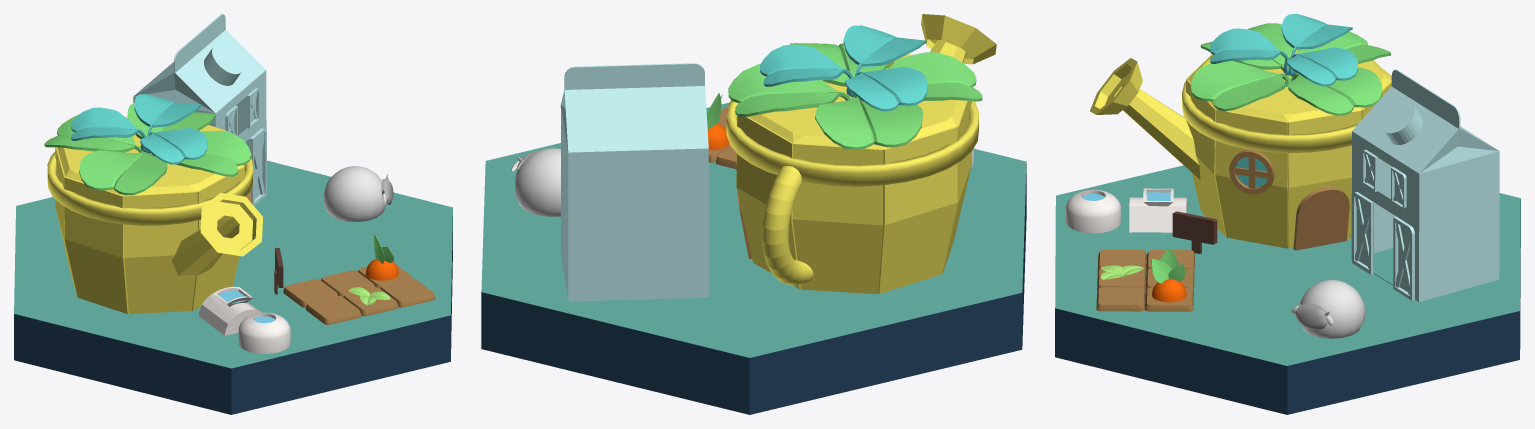
Rendered from Macro - farm barn lv3 WM3.fbx.
The picture shows the model from 3 angles, left to right: view 1: azimuth 30°, elevation 25°; view 2: azimuth 150°, elevation 25°; view 3: azimuth 270°, elevation 25°; orthographic projection. The views are drawn at different scales.
Visible parts, largest first — view 1: Cylinder.154, Cube.020, Milk_Carton_packet.002, Cube.012, Cube.047, Plane.009, Cube.046, Sphere.011, Plane.014, Cylinder.017, Cylinder.015, Plane.015 (+7 smaller); view 2: Cylinder.154, Milk_Carton_packet.002, Cube.020, Cube.047, Plane.005, Cube.005, Plane.020, Plane.016, Sphere.011, Plane.009, Plane.010, Plane.015 (+4 smaller); view 3: Cylinder.154, Milk_Carton_packet.002, Cube.020, Cube.012, Cube.047, Plane.014, Cube.033, Cube.045, Plane.020, Sphere.011, Cylinder.017, Cylinder.015 (+11 smaller).
Boxes of the visible parts, box(x1,y1,x2,y2) form: Cylinder.154: box(14, 160, 452, 414); Cube.020: box(55, 116, 244, 314); Milk_Carton_packet.002: box(133, 14, 266, 205); Cube.012: box(283, 263, 435, 324); Cube.047: box(47, 151, 252, 225); Plane.009: box(79, 150, 167, 195); Cube.046: box(200, 193, 262, 256); Sphere.011: box(324, 166, 385, 221); Plane.014: box(151, 130, 251, 176); Cylinder.017: box(198, 286, 261, 335); Cylinder.015: box(238, 312, 290, 353); Plane.015: box(140, 127, 207, 164); Cylinder.154: box(481, 102, 1026, 414); Milk_Carton_packet.002: box(560, 63, 708, 301); Cube.020: box(736, 54, 971, 294); Cube.047: box(726, 100, 978, 186); Plane.005: box(815, 96, 922, 149); Cube.005: box(762, 166, 813, 285); Plane.020: box(728, 64, 850, 116); Plane.016: box(845, 66, 927, 111); Sphere.011: box(514, 148, 560, 216); Plane.009: box(887, 52, 982, 101); Plane.010: box(760, 44, 853, 96); Plane.015: box(843, 25, 926, 76); Cylinder.154: box(1055, 165, 1520, 414); Milk_Carton_packet.002: box(1351, 69, 1499, 301); Cube.020: box(1186, 54, 1391, 248); Cube.012: box(1096, 249, 1194, 311); Cube.047: box(1182, 68, 1391, 153); Plane.014: box(1190, 61, 1290, 111); Cube.033: box(1293, 187, 1349, 250); Cube.045: box(1122, 89, 1200, 179); Plane.020: box(1288, 67, 1382, 115); Sphere.011: box(1300, 279, 1365, 338); Cylinder.017: box(1129, 188, 1186, 232); Cylinder.015: box(1066, 189, 1120, 233).
Bounding box in the file's own units: 197 × 94.02 × 172.
